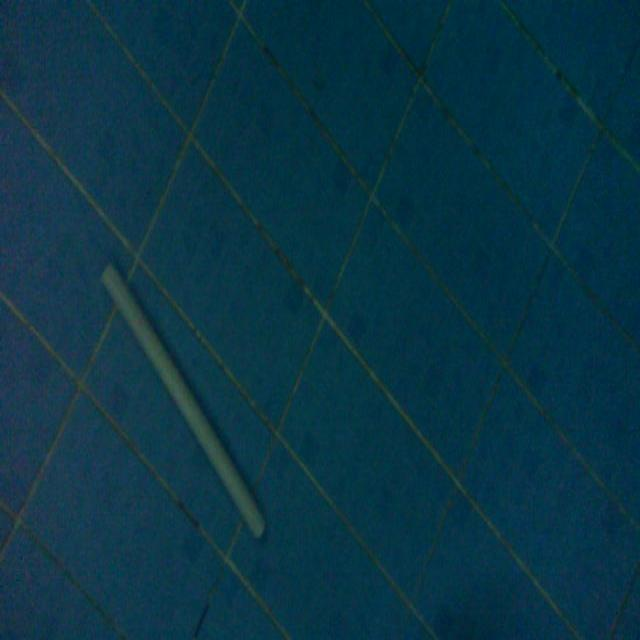Cube: (98, 256, 268, 542)
